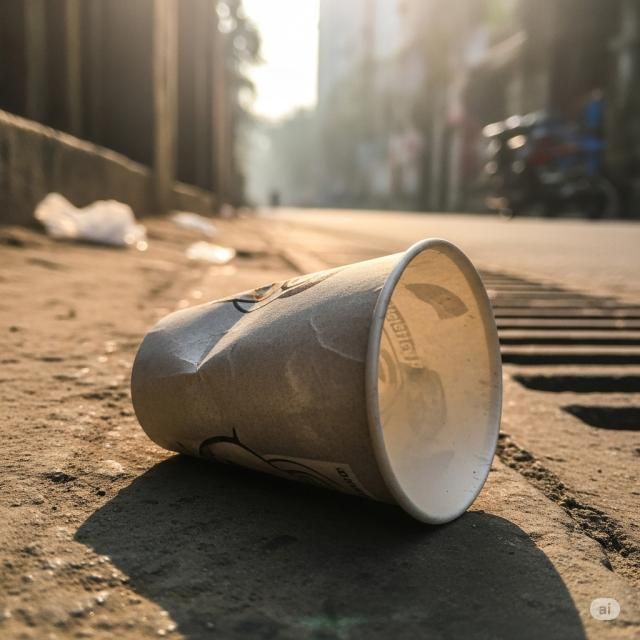paper: (131, 237, 504, 525)
